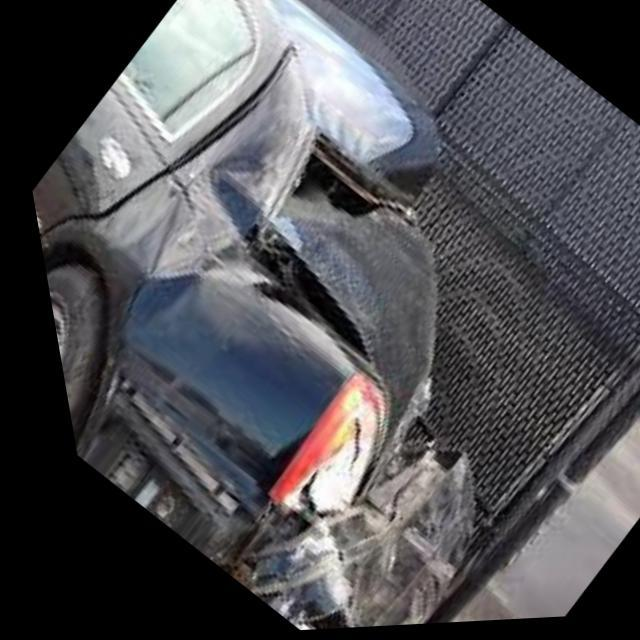glass shatter: (58, 58, 454, 632)
